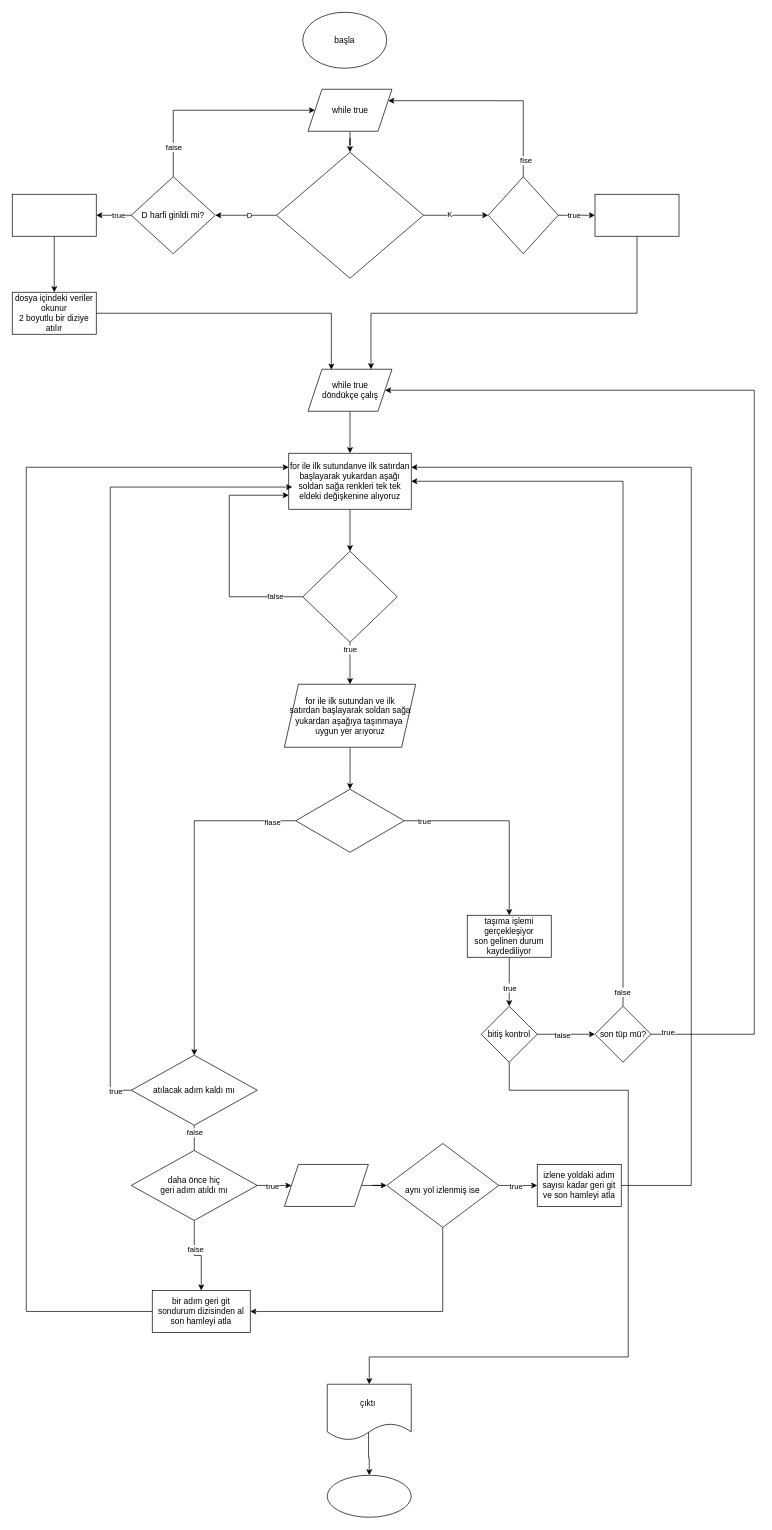
Image size: 772x1530. Some labels were removed from this diagram. Here are the shapes that lost their labels. From the top down, the centre of each, then its label:
At point 54,215: "Dosya numarasıyla dosya seçilir".
At point 350,215: "K= elden gir || D=dosyadan seç".
At point 523,215: "K harfi girildi mi?".
At point 636,215: "Klavyeden renkler girilir 2 boyutlu bir diziye atılır".
At point 349,596: "eldeki değişkeni taşınmaya uygun mu".
At point 349,820: "yer uygun mu?".
At point 326,1185: "for ile içini gez".
At point 369,1496: "son".
